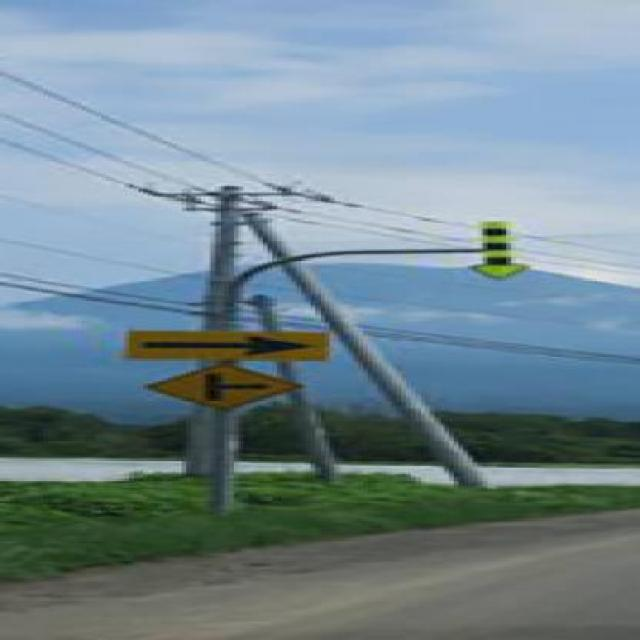pole: (94, 149, 552, 511)
